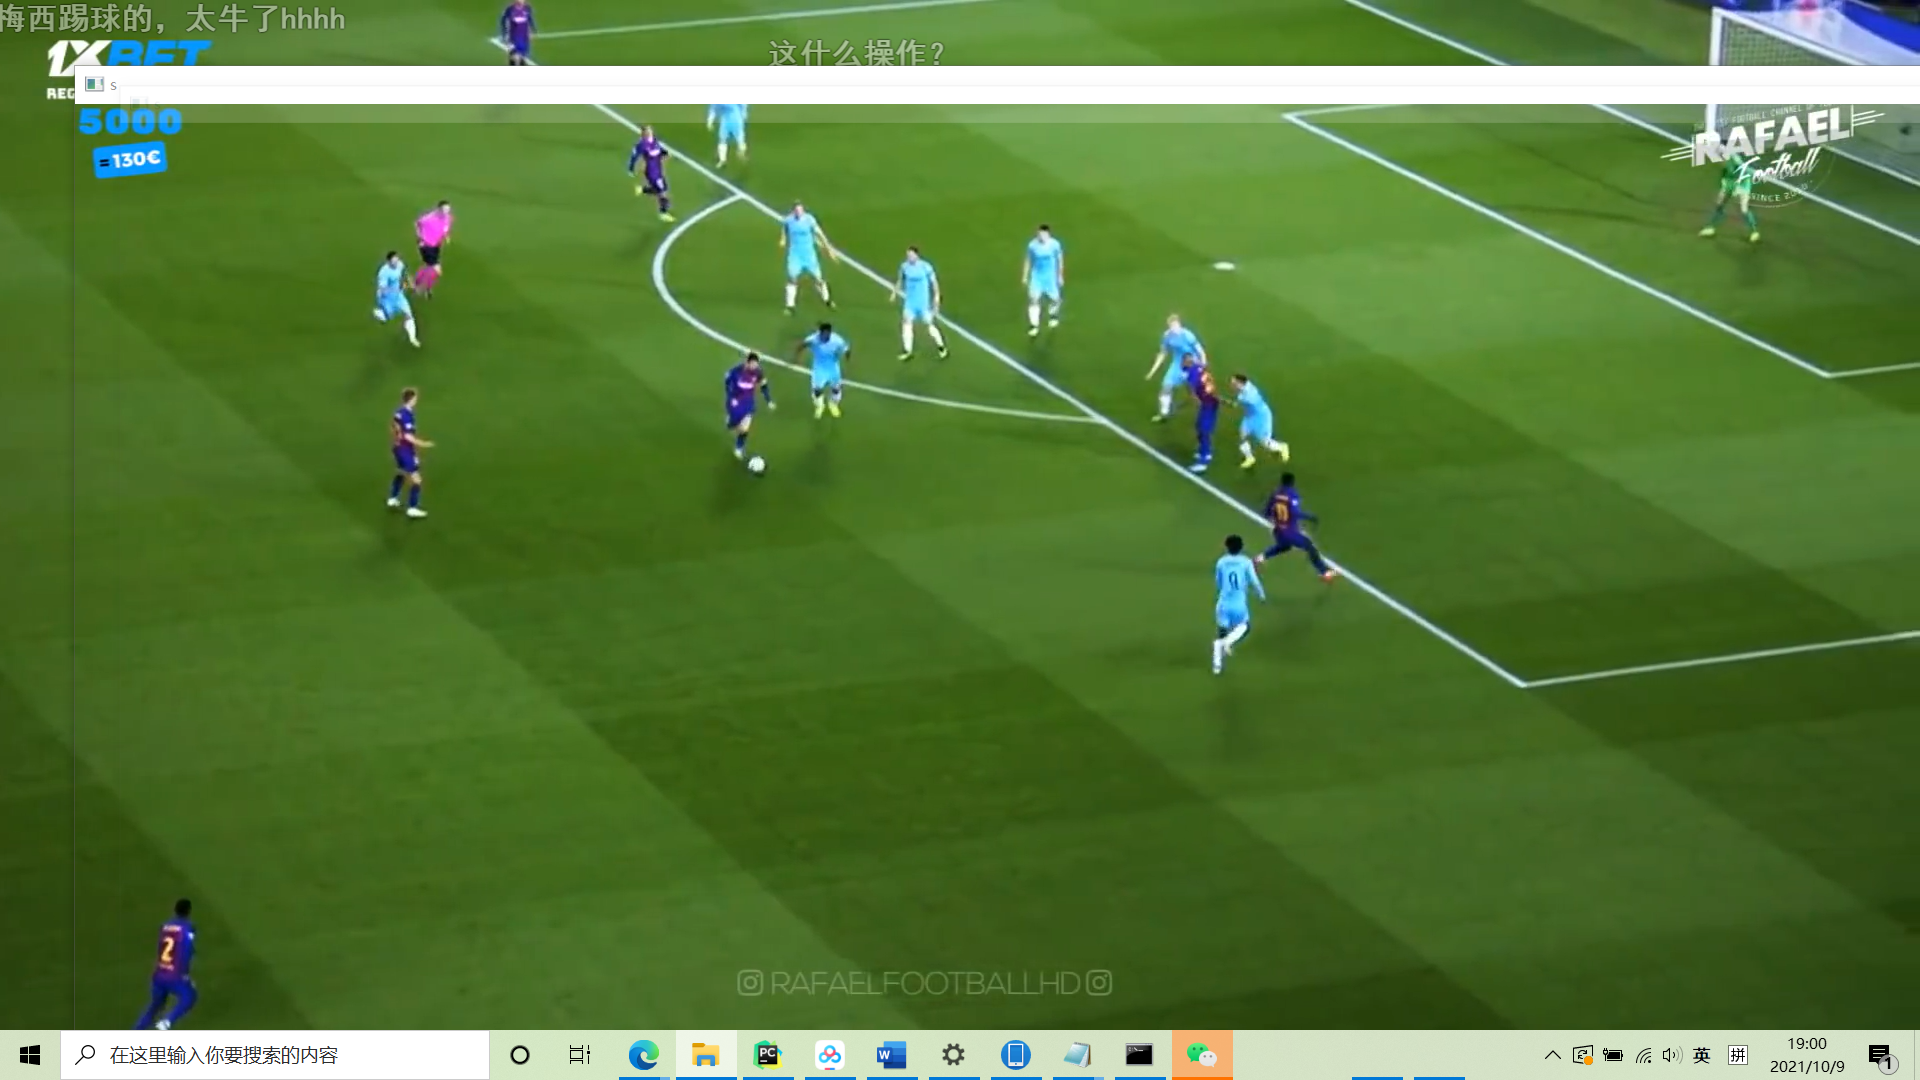ft: (746, 456, 766, 475)
